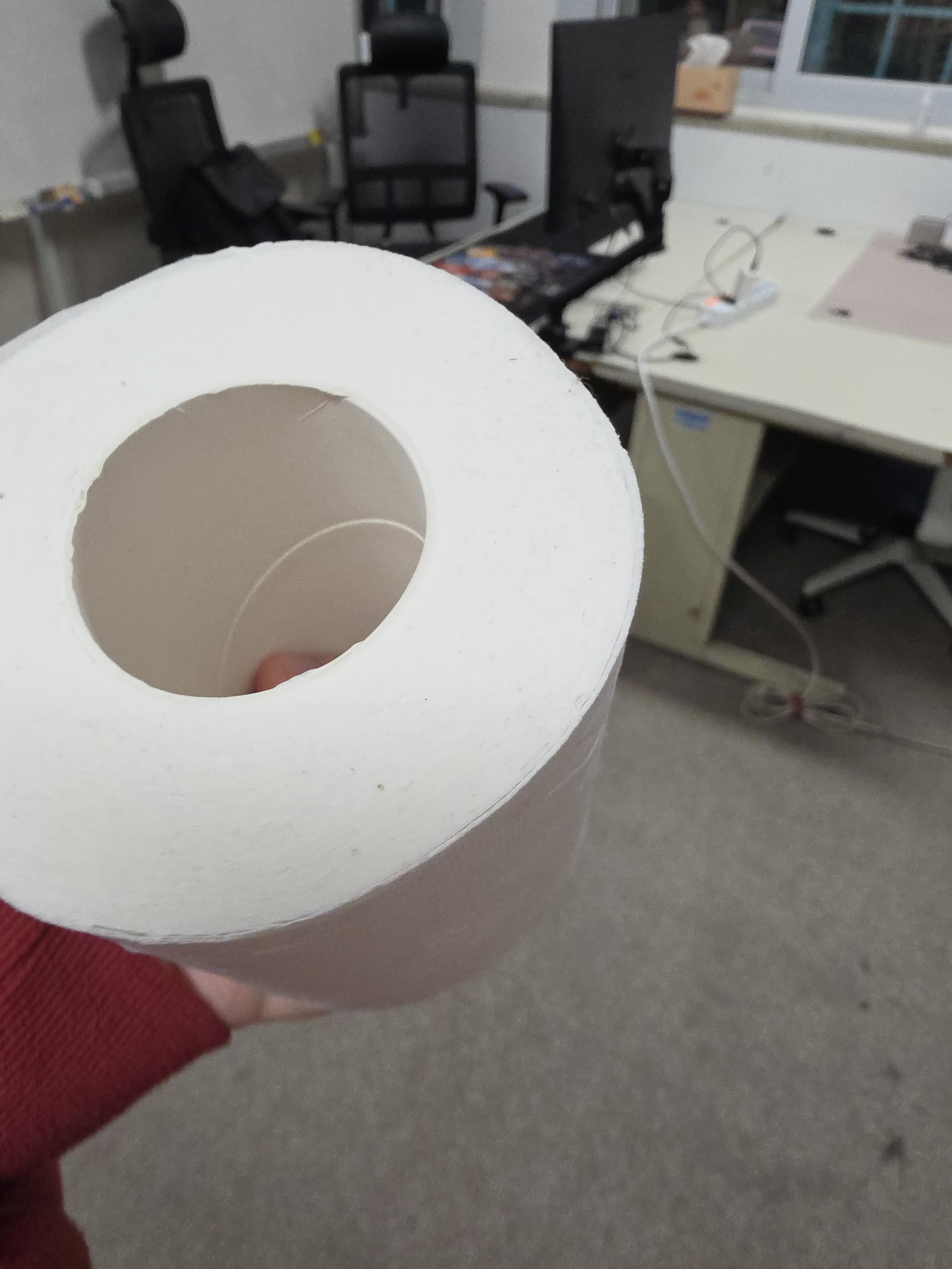tissue: (0, 240, 646, 1014), (674, 33, 739, 116)
